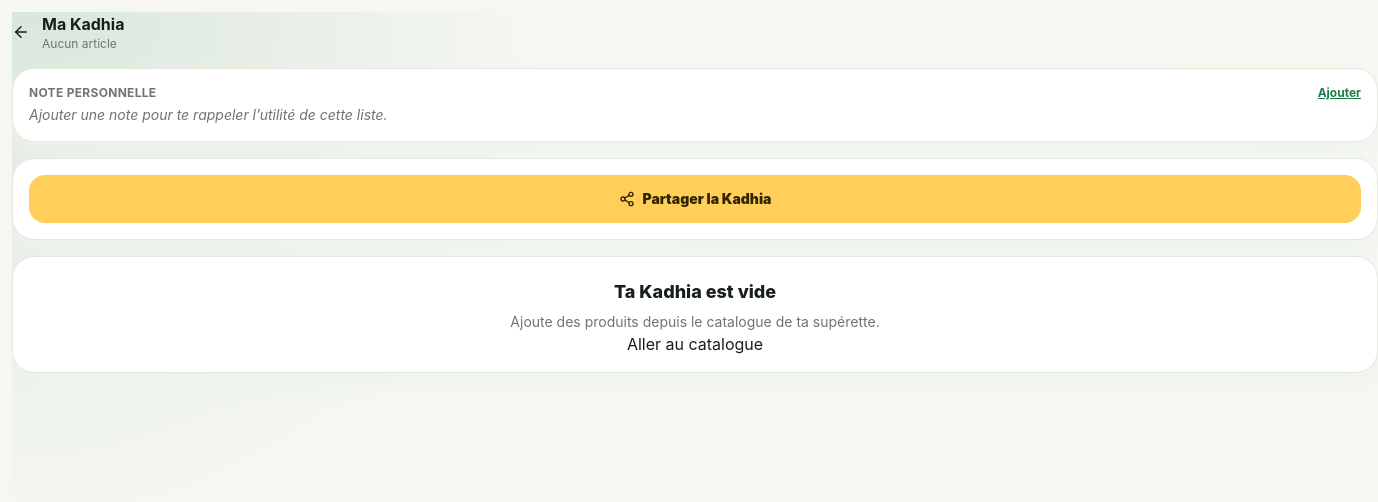
Test case: KadhiaDetailPage — note personnelle › affiche le lien de partage et copie son URL
The image size is (1378, 502).
Expected: the text "Partager la Kadhia" is shown, [618,189,771,209]
Click the button "Partager la Kadhia" at [695, 199], box [29,175,1361,223]
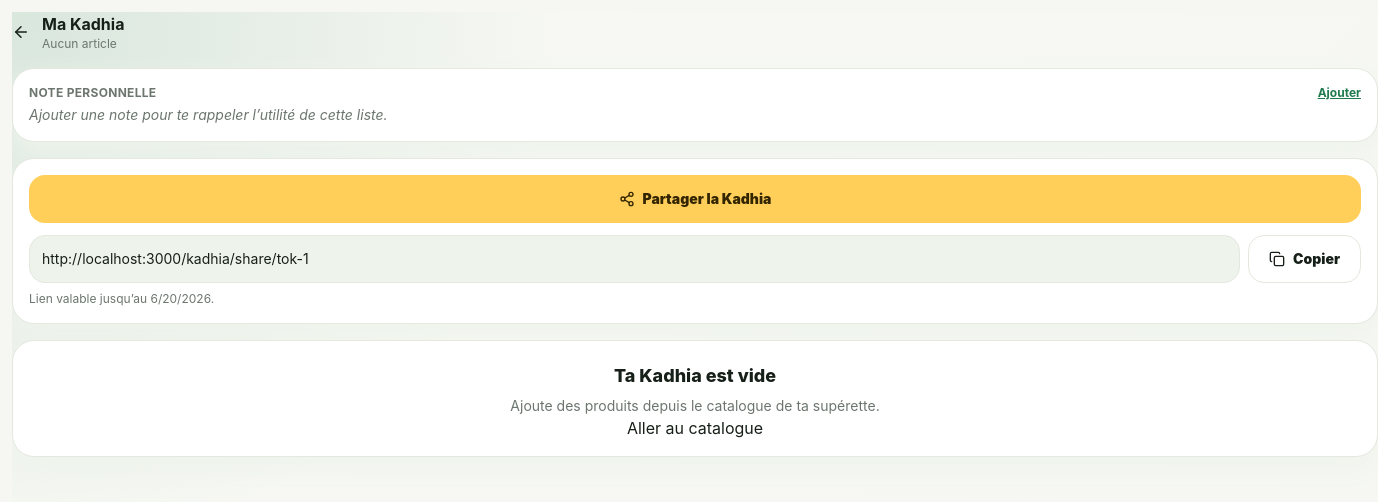
Now the field showing "http://localhost:3000/kadhia/share/tok-1" is shown, box [29,235,1240,283]
Click the button "Copier" at [1304, 259], box [1248,235,1361,283]
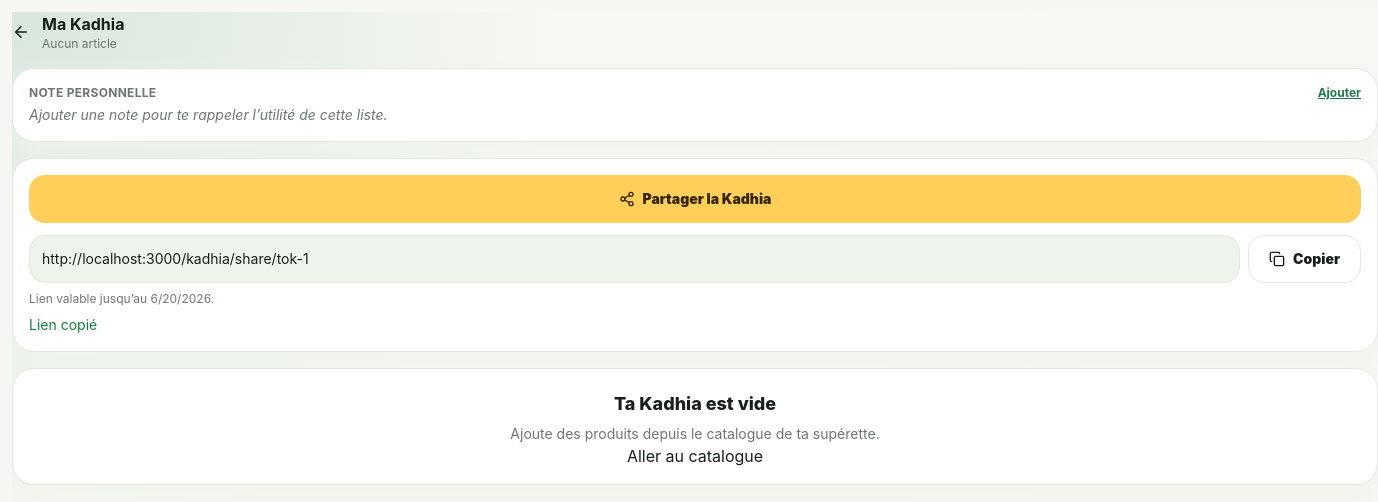
Now the text "Lien copié" is shown, box [29,316,97,333]
